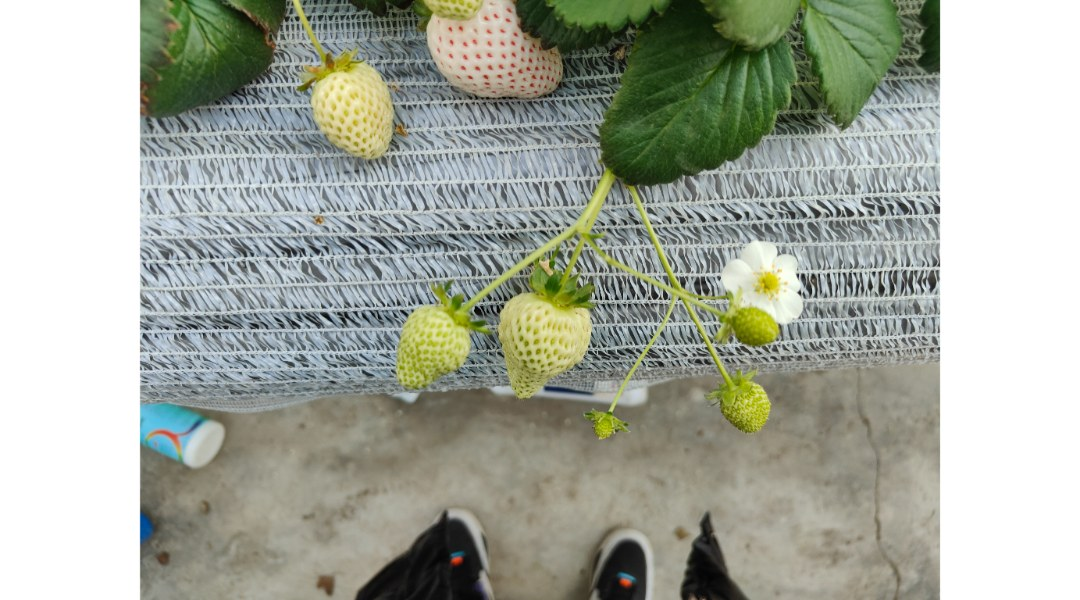berry: (431, 0, 580, 108), (372, 276, 479, 408), (500, 280, 599, 403), (301, 47, 399, 162), (703, 366, 773, 437), (727, 301, 784, 359), (581, 400, 627, 453)
flower: (712, 238, 810, 321)
strain: (466, 232, 564, 317), (612, 299, 673, 410), (626, 181, 678, 273), (688, 311, 734, 396)
